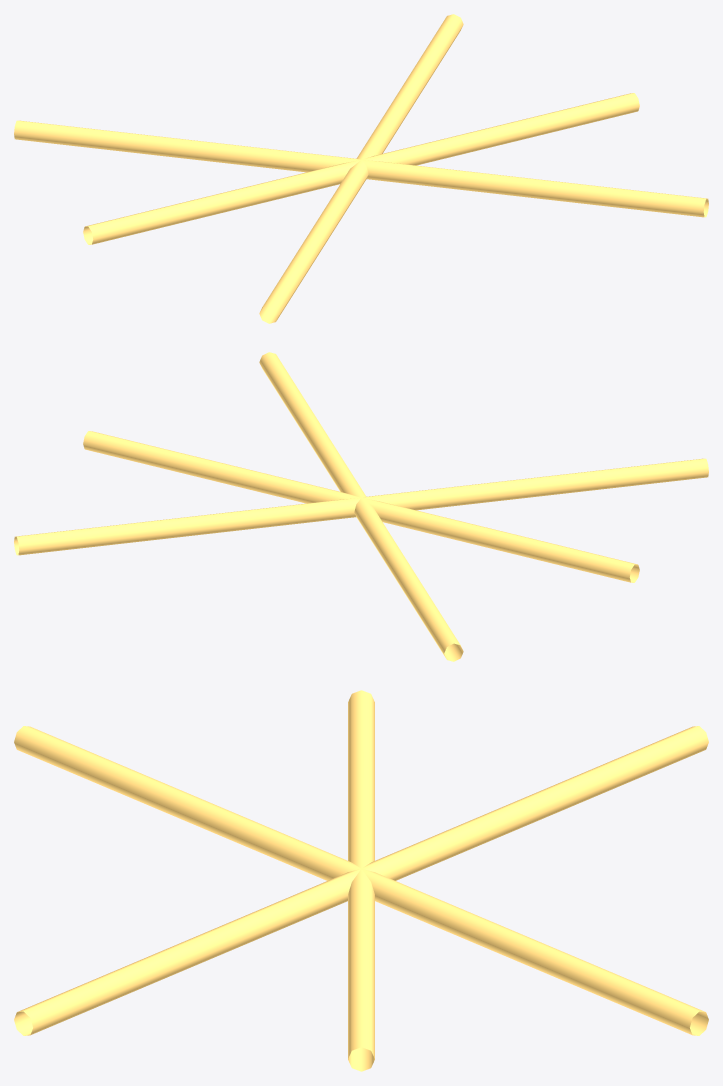
Rendered from rune_3.glb.
3 renders of one model, top to bottom at view 1: azimuth 30°, elevation 25°; view 2: azimuth 150°, elevation 25°; view 3: azimuth 270°, elevation 25°, orthographic. The views are drawn at different scales.
Visible parts, largest first — view 1: Rune_3; view 2: Rune_3; view 3: Rune_3.
Boxes of the visible parts, left/top/right/bottom form: Rune_3: left=14, top=14, right=708, bottom=323; Rune_3: left=14, top=352, right=708, bottom=661; Rune_3: left=14, top=690, right=708, bottom=1071.
Bounding box in the file's own units: 0.028 × 0.0009 × 0.023.
